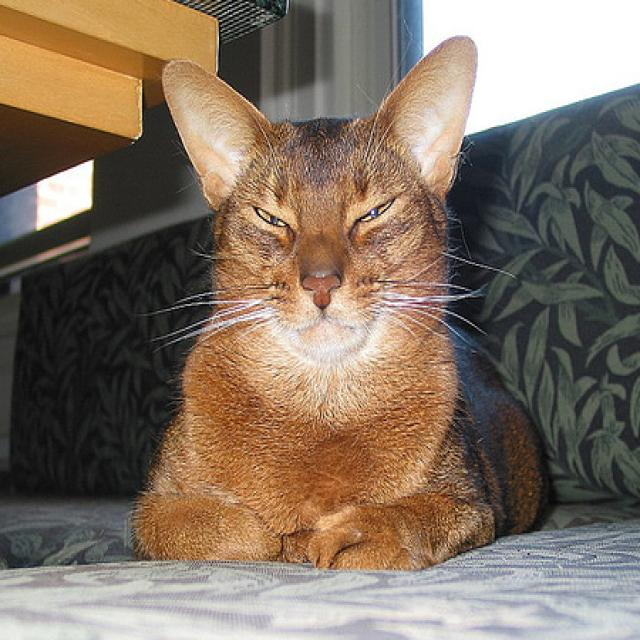Abyssinian: (130, 29, 557, 576)
